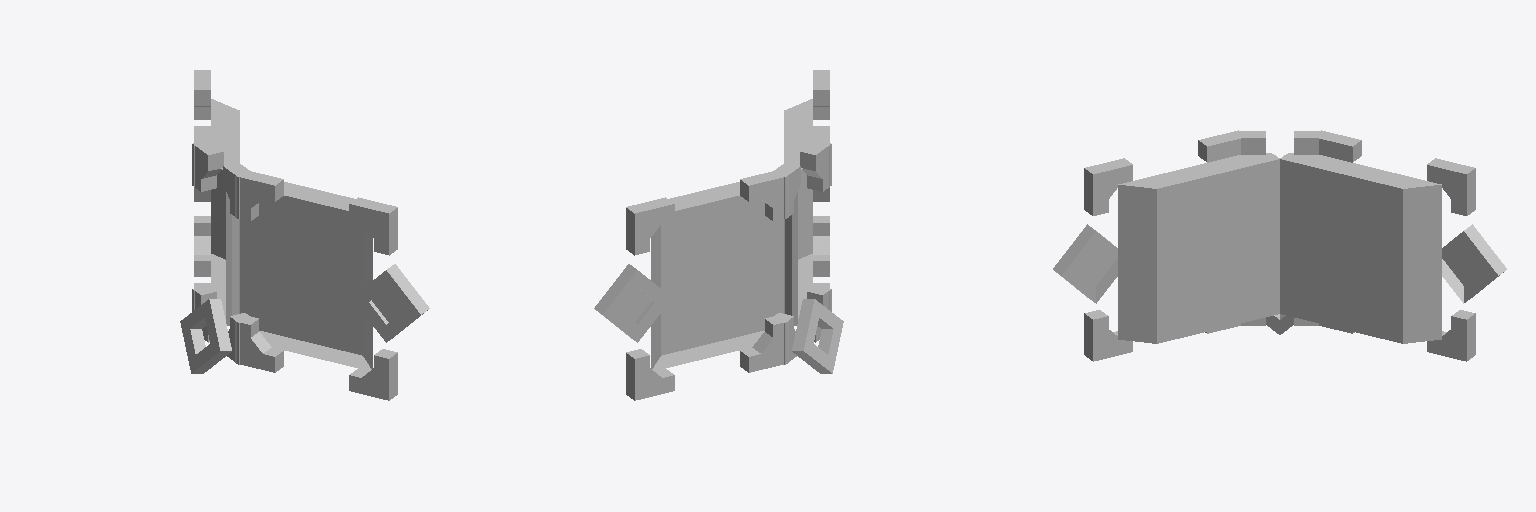
Rendered from rotebook_open.obj.
The picture shows the model from 3 angles: view 1: azimuth 30°, elevation 25°; view 2: azimuth 150°, elevation 25°; view 3: azimuth 270°, elevation 25°; orthographic projection.
Parts seen in each view (by area): view 1: PAGES_FRONT_OPEN_Cube.043, COVERDECO_FRONT_VAR3_OPEN_Cube.132, SPINECORNER_VAR3_OPEN_Cube.134, PAGES_BACK_OPEN_Cube.040, COVERDECO_BACK_VAR3_OPEN_Cube.137; view 2: PAGES_BACK_OPEN_Cube.040, COVERDECO_BACK_VAR3_OPEN_Cube.137, SPINECORNER_VAR3_OPEN_Cube.134, PAGES_FRONT_OPEN_Cube.043, COVERDECO_FRONT_VAR3_OPEN_Cube.132; view 3: PAGES_BACK_OPEN_Cube.040, PAGES_FRONT_OPEN_Cube.043, COVERDECO_FRONT_VAR3_OPEN_Cube.132, COVERDECO_BACK_VAR3_OPEN_Cube.137, SPINECORNER_VAR3_OPEN_Cube.134.
Part boxes in pixels (bbox=[...]): PAGES_FRONT_OPEN_Cube.043: bbox=[232, 182, 372, 370]; COVERDECO_FRONT_VAR3_OPEN_Cube.132: bbox=[235, 170, 429, 400]; SPINECORNER_VAR3_OPEN_Cube.134: bbox=[180, 141, 252, 373]; PAGES_BACK_OPEN_Cube.040: bbox=[211, 99, 239, 325]; COVERDECO_BACK_VAR3_OPEN_Cube.137: bbox=[194, 70, 210, 309]; PAGES_BACK_OPEN_Cube.040: bbox=[651, 182, 791, 370]; COVERDECO_BACK_VAR3_OPEN_Cube.137: bbox=[594, 170, 788, 400]; SPINECORNER_VAR3_OPEN_Cube.134: bbox=[771, 141, 843, 373]; PAGES_FRONT_OPEN_Cube.043: bbox=[784, 99, 812, 325]; COVERDECO_FRONT_VAR3_OPEN_Cube.132: bbox=[813, 70, 829, 309]; PAGES_BACK_OPEN_Cube.040: bbox=[1280, 153, 1441, 343]; PAGES_FRONT_OPEN_Cube.043: bbox=[1118, 153, 1279, 343]; COVERDECO_FRONT_VAR3_OPEN_Cube.132: bbox=[1053, 130, 1242, 361]; COVERDECO_BACK_VAR3_OPEN_Cube.137: bbox=[1317, 130, 1506, 361]; SPINECORNER_VAR3_OPEN_Cube.134: bbox=[1234, 131, 1325, 334].
Size of the model in its own units: 0.6559 by 1.02 by 2.